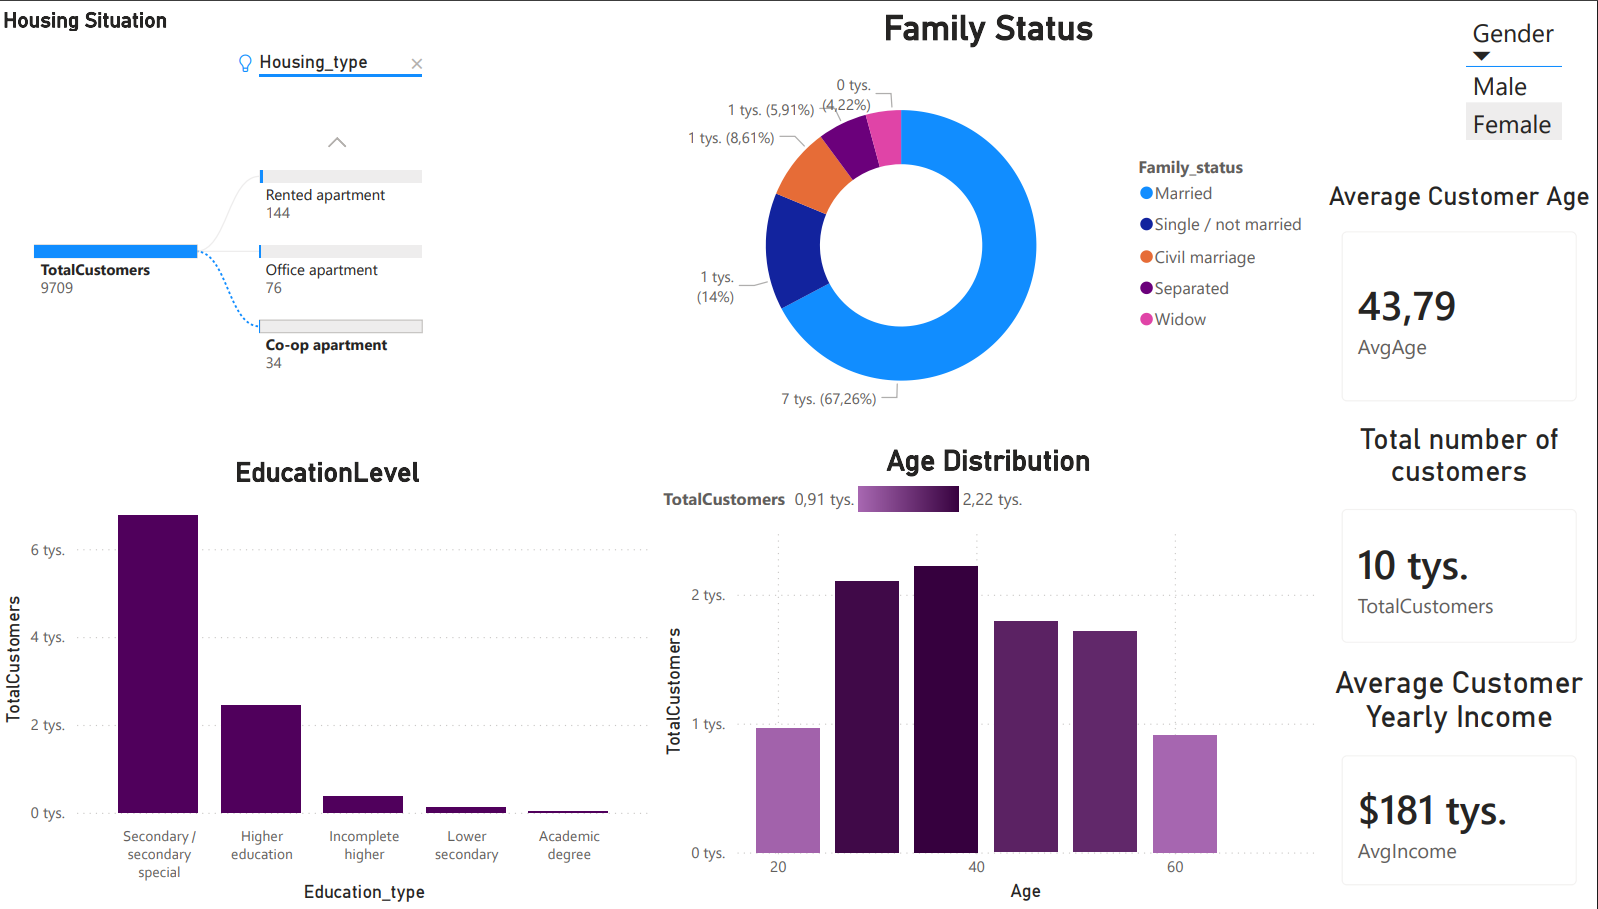

This screenshot's page, from the dashboard's own definition file:
{"tool":"powerbi","page":{"name":"Demographics","canvas":[1280,720],"ordinal":1},"visuals":[{"type":"cardVisual","title":"Average Customer Age","fields":{"Data":["_Key measures.AvgAge"]},"box":[1058,140,222.3,193.5],"z":0},{"type":"cardVisual","title":"Average Customer Yearly Income","fields":{"Data":["_Key measures.AvgIncome"]},"box":[1058,526.9,222.3,193.5],"z":1000},{"type":"cardVisual","title":"Total number of customers","fields":{"Data":["_Key measures.TotalCustomers"]},"box":[1058,333.4,222.3,193.5],"z":2000},{"type":"tableEx","fields":{"Values":["Credit_cards.Gender"]},"box":[1169.1,0,111.1,113.9],"z":3000},{"type":"clusteredColumnChart","title":"Age Distribution","fields":{"Y":["_Key measures.TotalCustomers"],"Category":["Credit_cards.Age (pliki binarne)"]},"box":[528.3,349.9,529.7,370.5],"z":4000},{"type":"columnChart","title":"EducationLevel","fields":{"Y":["_Key measures.TotalCustomers"],"Category":["Credit_cards.Education_type"]},"box":[0,359.5,528.3,360.9],"z":5000},{"type":"donutChart","title":"Family Status","fields":{"Y":["_Key measures.TotalCustomers"],"Category":["Credit_cards.Family_status"]},"box":[528.3,0,529.7,349.9],"z":6000},{"type":"decompositionTreeVisual","title":"Housing Situation","fields":{"ExplainBy":["Credit_cards.Housing_type"],"Analyze":["_Key measures.TotalCustomers"]},"box":[0,0,528.3,349.9],"z":7000}]}

Visuals, with their boxes in screenshot pixels (x1, y1, x2, y2), scaled from the page's 1280x720 canvas onto the 1598x909 screenshot:
"Average Customer Age" cardVisual: l=1321, t=177, r=1597, b=421
"Average Customer Yearly Income" cardVisual: l=1321, t=665, r=1597, b=908
"Total number of customers" cardVisual: l=1321, t=421, r=1597, b=665
tableEx - Credit_cards.Gender: l=1460, t=0, r=1597, b=144
"Age Distribution" clusteredColumnChart: l=660, t=442, r=1321, b=908
"EducationLevel" columnChart: l=0, t=454, r=660, b=908
"Family Status" donutChart: l=660, t=0, r=1321, b=442
"Housing Situation" decompositionTreeVisual: l=0, t=0, r=660, b=442
